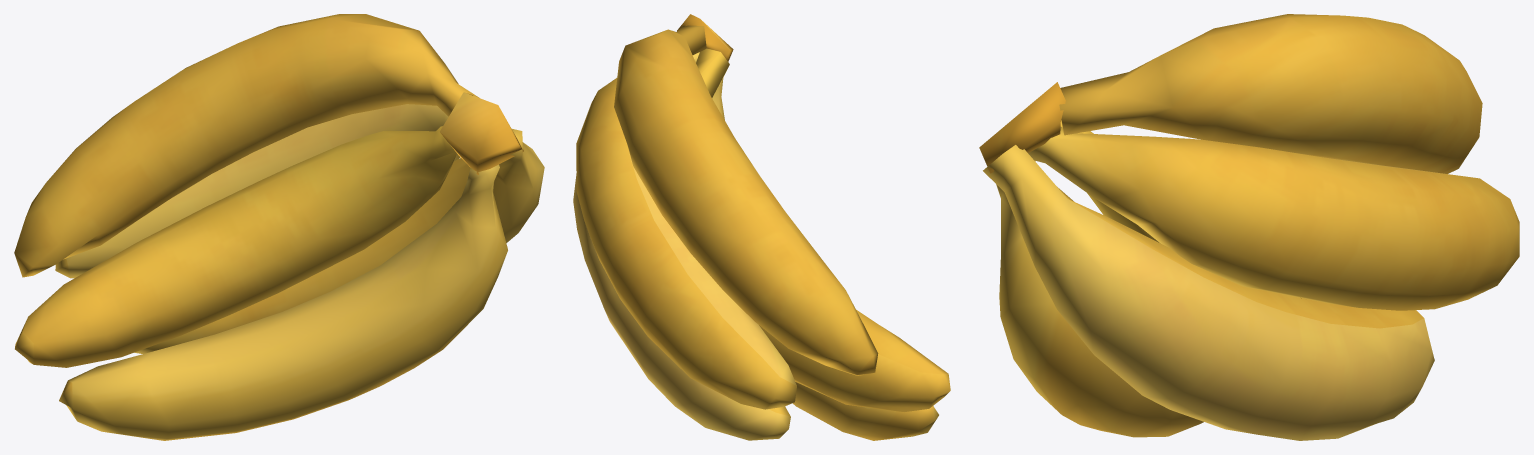
File: ref_bananas.fbx
3 views of the same model, side by side, from view 1: azimuth 30°, elevation 25°; view 2: azimuth 150°, elevation 25°; view 3: azimuth 270°, elevation 25° (orthographic). The views are drawn at different scales.
Visible parts, largest first — view 1: ref_bananas; view 2: ref_bananas; view 3: ref_bananas.
Boxes of the visible parts, <box> form: ref_bananas: <box>14,14,544,440</box>; ref_bananas: <box>573,14,950,440</box>; ref_bananas: <box>979,14,1519,440</box>.
Size of the model in its own units: 100 by 76.15 by 76.28.
